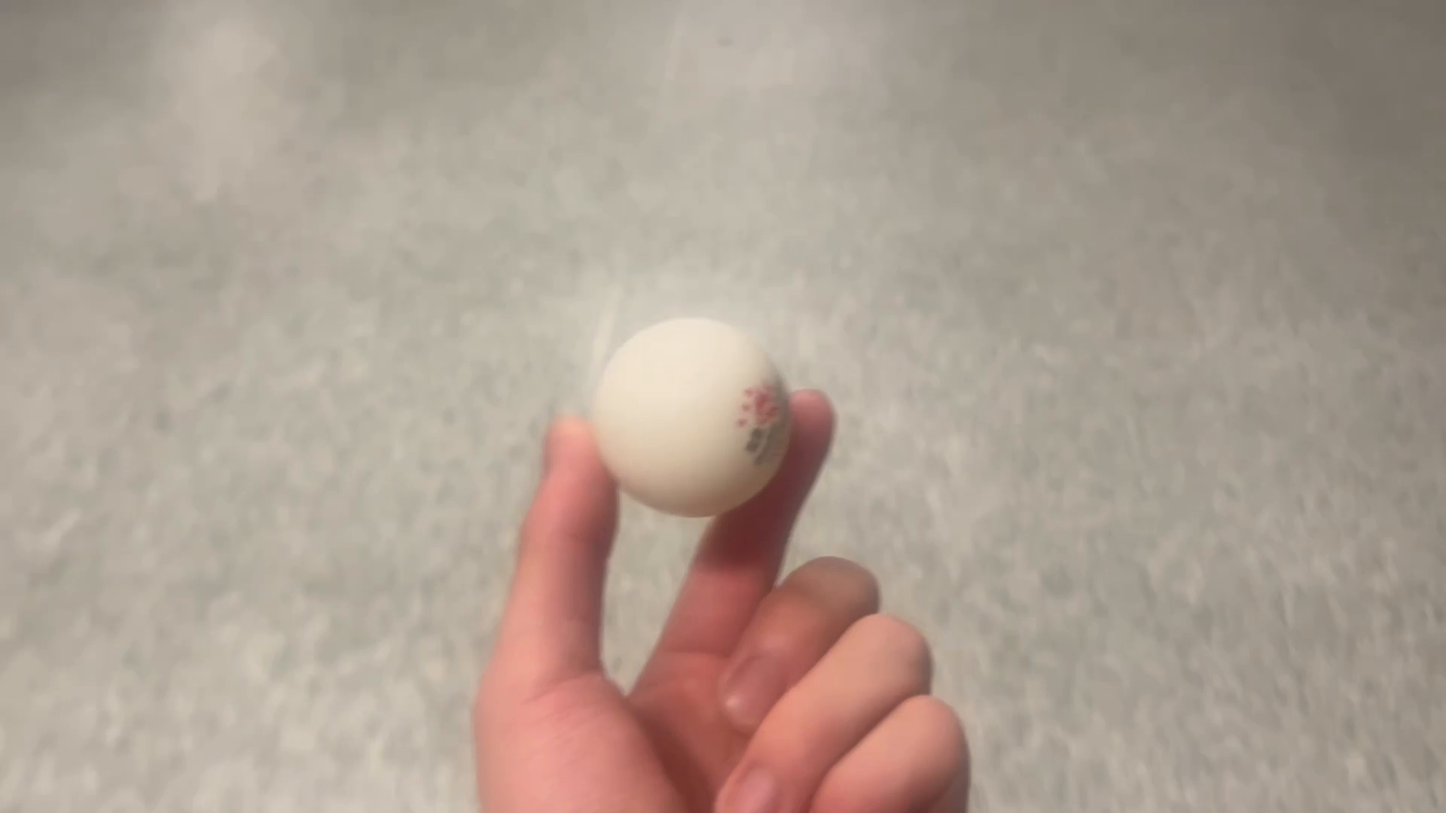Ball: (588, 308, 789, 514)
